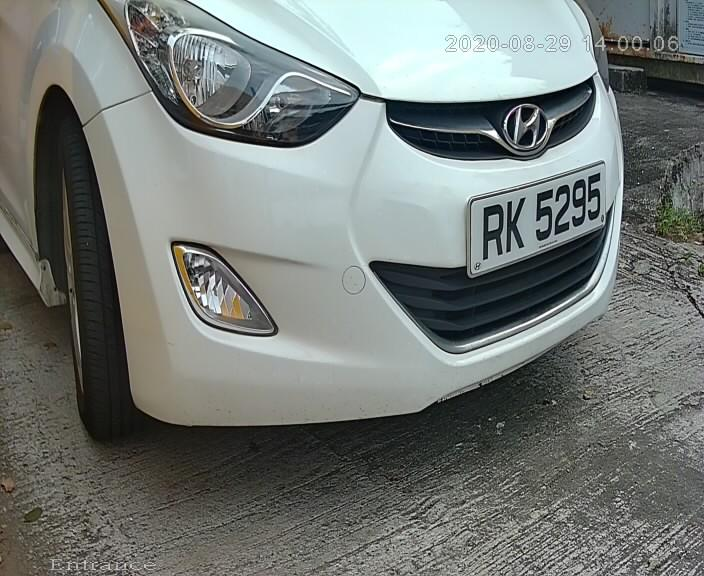License Plate: (451, 146, 616, 290)
